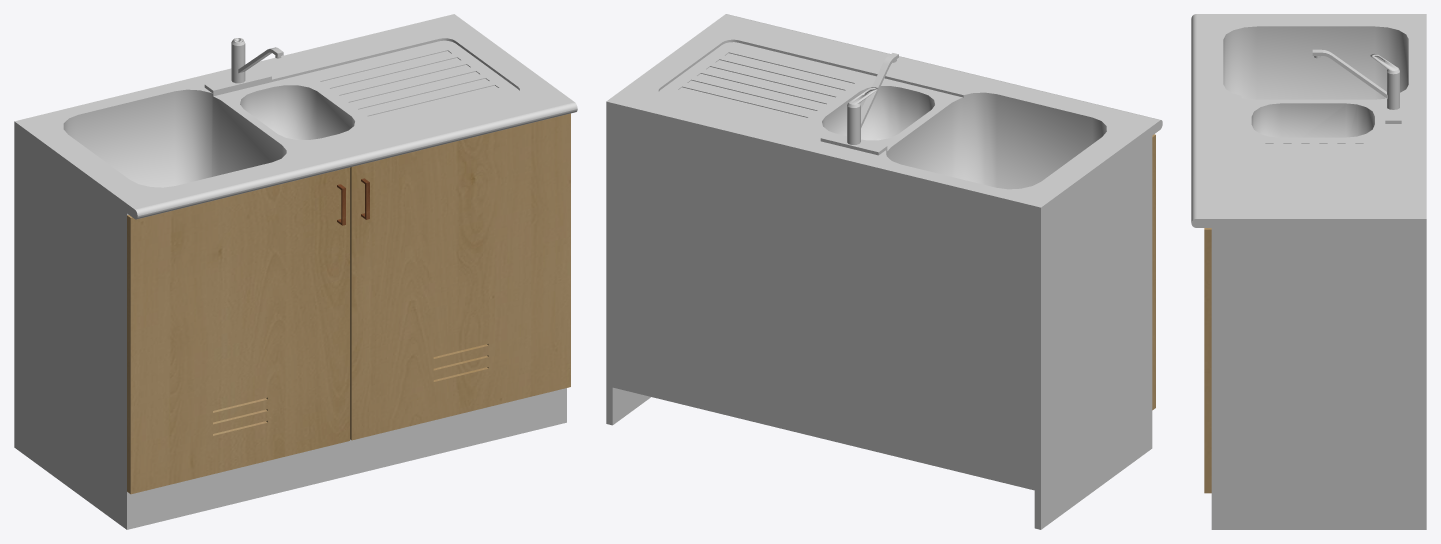
The model's file is sink-1200.glb.
3 views of the same model, side by side, from view 1: azimuth 30°, elevation 25°; view 2: azimuth 150°, elevation 25°; view 3: azimuth 270°, elevation 25° (orthographic). The views are drawn at different scales.
Parts seen in each view (by area): view 1: Mesh_1_group, Sink_Counter_Combo, Mesh_0_group, Mesh_2_group, Mesh_5_group, Water_Faucet_4; view 2: Mesh_0_group, Sink_Counter_Combo, Mesh_5_group, Mesh_2_group, Water_Faucet_4, Mesh_1_group; view 3: Mesh_0_group, Sink_Counter_Combo, Mesh_5_group, Mesh_2_group, Mesh_1_group, Water_Faucet_4.
Part boxes in pixels (x1,y1,x2,y2): Mesh_1_group: [127, 113, 570, 494]; Sink_Counter_Combo: [37, 21, 552, 202]; Mesh_0_group: [14, 131, 128, 491]; Mesh_2_group: [14, 388, 566, 529]; Mesh_5_group: [14, 14, 577, 219]; Water_Faucet_4: [204, 38, 283, 93]; Mesh_0_group: [606, 111, 1152, 491]; Sink_Counter_Combo: [628, 21, 1138, 200]; Mesh_5_group: [606, 14, 1162, 216]; Mesh_2_group: [606, 386, 1152, 529]; Water_Faucet_4: [820, 53, 898, 155]; Mesh_1_group: [1152, 134, 1155, 410]; Mesh_0_group: [1211, 228, 1426, 493]; Sink_Counter_Combo: [1202, 22, 1418, 210]; Mesh_5_group: [1191, 14, 1426, 227]; Mesh_2_group: [1211, 493, 1426, 529]; Mesh_1_group: [1204, 228, 1211, 493]; Water_Faucet_4: [1312, 49, 1401, 123].
Size of the model in its own units: 1.2 by 1.01 by 0.582.
3 materials, 2 textured.
